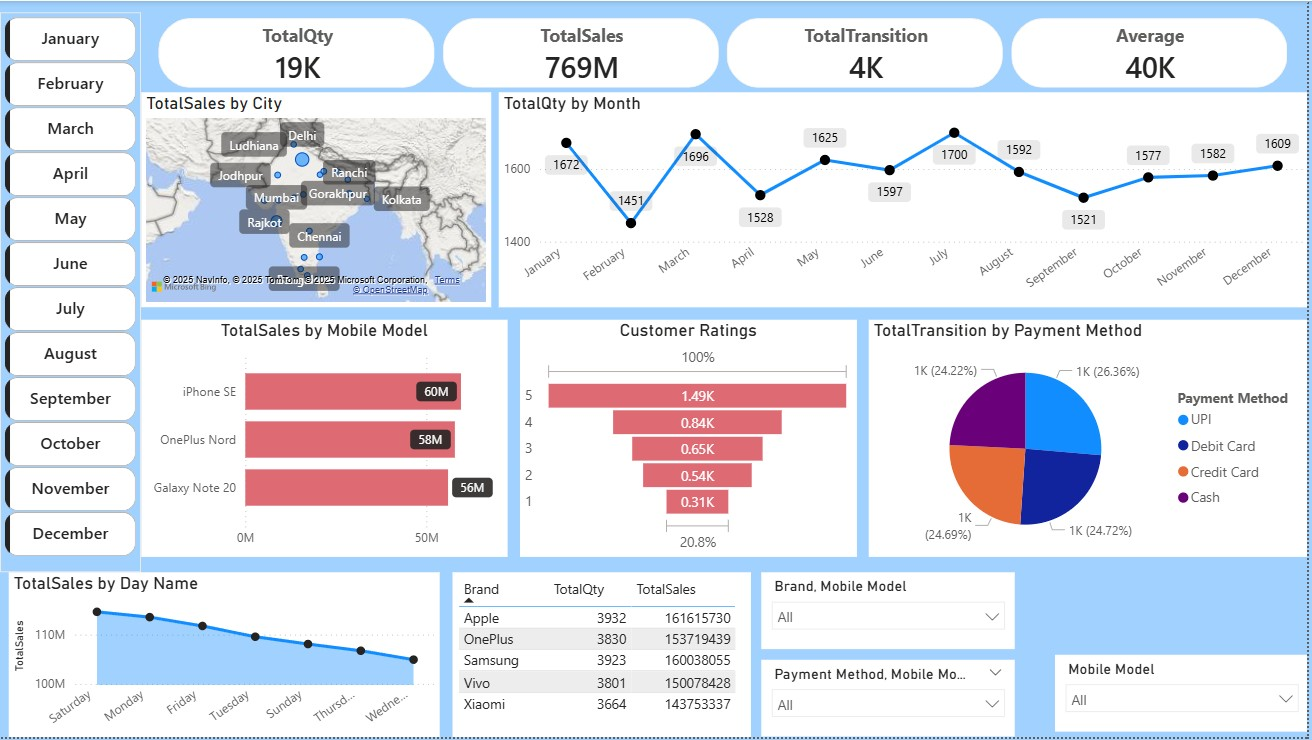

This screenshot's page, from the dashboard's own definition file:
{"tool":"powerbi","page":{"name":"Page 1","canvas":[1280,720],"ordinal":0},"visuals":[{"type":"advancedSlicerVisual","fields":{"Values":["Sheet1.Date.Variation.Date Hierarchy.Month"]},"box":[0,11,138.2,547.8],"z":0},{"type":"cardVisual","fields":{"Data":["Sheet1.totalqty","Sheet1.totalsales","Sheet1.totaltransition","Sheet1.Average"]},"box":[138.6,0,1141.7,102.9],"z":1000},{"type":"map","fields":{"Category":["Sheet1.City"],"Size":["Sheet1.TotalSales"]},"box":[138.6,89.2,341.7,209.9],"z":2000},{"type":"lineChart","fields":{"Y":["Sheet1.TotalQty"],"Category":["Sheet1.Date.Variation.Date Hierarchy.Month"]},"box":[487.9,89.3,792.4,210.3],"z":3000},{"type":"clusteredBarChart","fields":{"Category":["Sheet1.Mobile Model"],"Y":["Sheet1.TotalSales"]},"box":[138.6,311.5,358.1,231.9],"z":4000},{"type":"pieChart","fields":{"Category":["Sheet1.Payment Method"],"Y":["Sheet1.TotalTransition"]},"box":[849.4,311.5,430.9,231.9],"z":5000},{"type":"funnel","title":" Customer Ratings","fields":{"Category":["Sheet1.Customer Ratings"],"Y":["CountNonNull(Sheet1.Customer Ratings)"]},"box":[509.1,311.5,329.3,231.9],"z":6000},{"type":"areaChart","fields":{"Category":["Sheet1.Day Name"],"Y":["Sheet1.TotalSales"]},"box":[8.6,558.8,421.9,161.4],"z":7000},{"type":"tableEx","fields":{"Values":["Sheet1.Brand","Sheet1.TotalQty","Sheet1.TotalSales"]},"box":[443.2,558.5,292.3,161.9],"z":8000},{"type":"slicer","fields":{"Values":["Sheet1.Mobile Model"]},"box":[1031.9,639.5,248.4,75.5],"z":9000},{"type":"slicer","fields":{"Values":["Sheet1.Brand","Sheet1.Mobile Model"]},"box":[745.1,558.5,248.4,75.5],"z":10000},{"type":"slicer","fields":{"Values":["Sheet1.Payment Method","Sheet1.Mobile Model"]},"box":[745.1,644.9,248.4,75.5],"z":11000}]}

Visuals, with their boxes in screenshot pixels (x1, y1, x2, y2), scaled from the page's 1280x720 canvas onto the 1312x740 screenshot:
advancedSlicerVisual - Sheet1.Date.Variation.Date Hierarchy.Month: detection(0, 11, 142, 574)
cardVisual - Sheet1.totalqty x Sheet1.totalsales: detection(142, 0, 1311, 106)
map - Sheet1.City x Sheet1.TotalSales: detection(142, 92, 492, 307)
lineChart - Sheet1.TotalQty x Sheet1.Date.Variation.Date Hierarchy.Month: detection(500, 92, 1311, 308)
clusteredBarChart - Sheet1.Mobile Model x Sheet1.TotalSales: detection(142, 320, 509, 558)
pieChart - Sheet1.Payment Method x Sheet1.TotalTransition: detection(871, 320, 1311, 558)
" Customer Ratings" funnel: detection(522, 320, 859, 558)
areaChart - Sheet1.Day Name x Sheet1.TotalSales: detection(9, 574, 441, 739)
tableEx - Sheet1.Brand x Sheet1.TotalQty: detection(454, 574, 754, 739)
slicer - Sheet1.Mobile Model: detection(1058, 657, 1311, 735)
slicer - Sheet1.Brand x Sheet1.Mobile Model: detection(764, 574, 1018, 652)
slicer - Sheet1.Payment Method x Sheet1.Mobile Model: detection(764, 663, 1018, 739)
